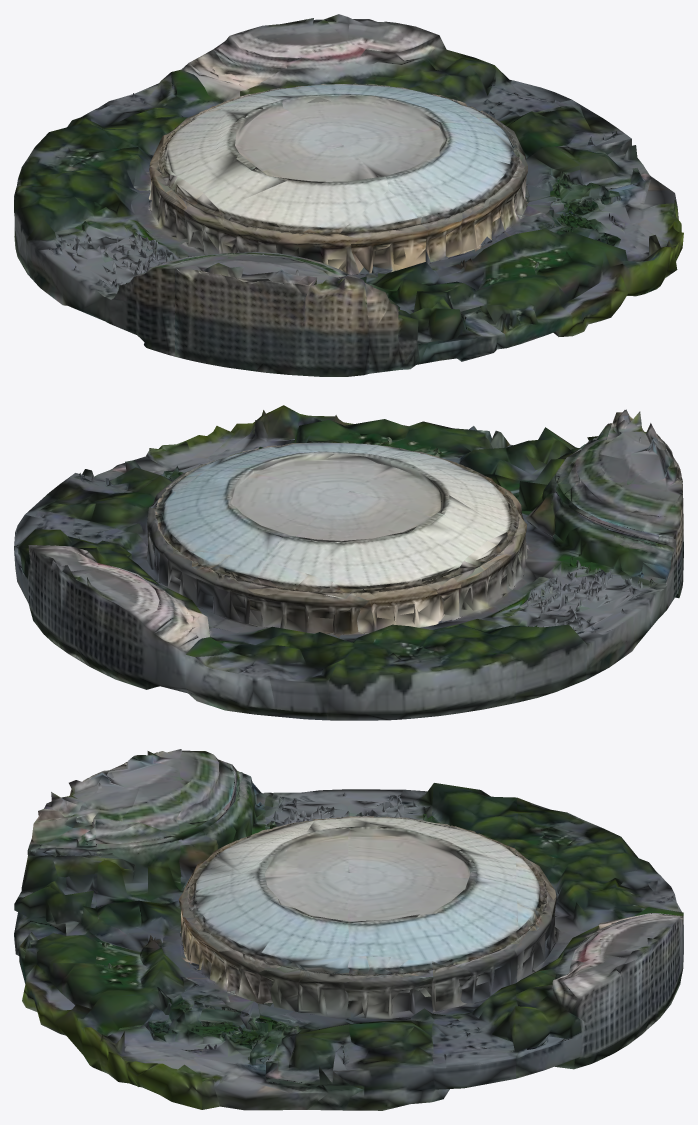
Rendered from construction-02.glb.
3 renders of one model, top to bottom at view 1: azimuth 30°, elevation 25°; view 2: azimuth 150°, elevation 25°; view 3: azimuth 270°, elevation 25°, orthographic. The views are drawn at different scales.
Size of the model in its own units: 1.89 by 0.4184 by 1.9.
1 material, 1 textured.
